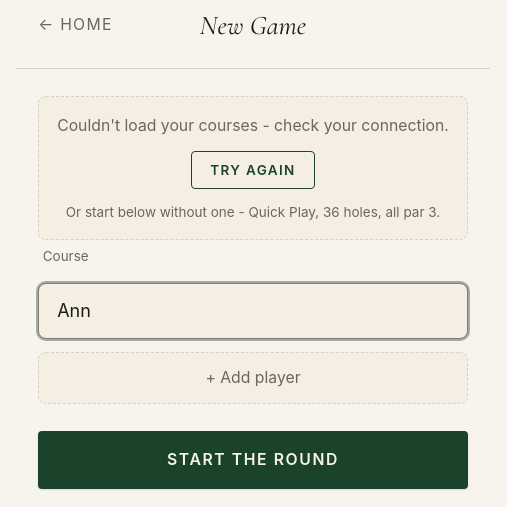
Setup - courses load and the date field (#99) › a failed courses load says so with Try again, and never shows "No courses yet"
This screenshot has width=507, height=507.
Expected: the text "Couldn't load your courses - check your connection." is shown, [57,115,449,138]
Expected: the text "start below without one" is shown, [66,204,440,220]
Step 1. Click the button "Try again" → (253, 170), box [191,151,315,189]
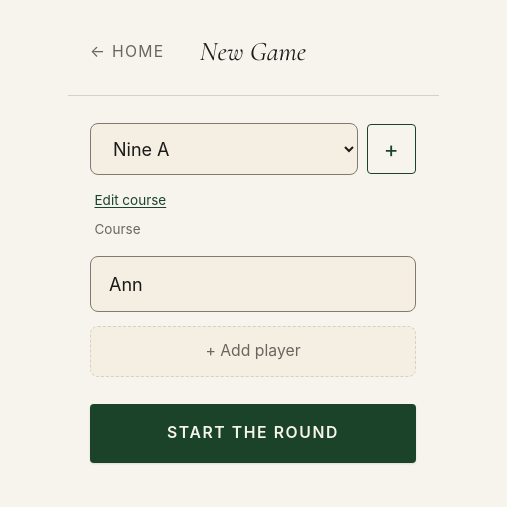
Expected: the dropdown showing "Nine A" is shown, [90,123,358,175]
